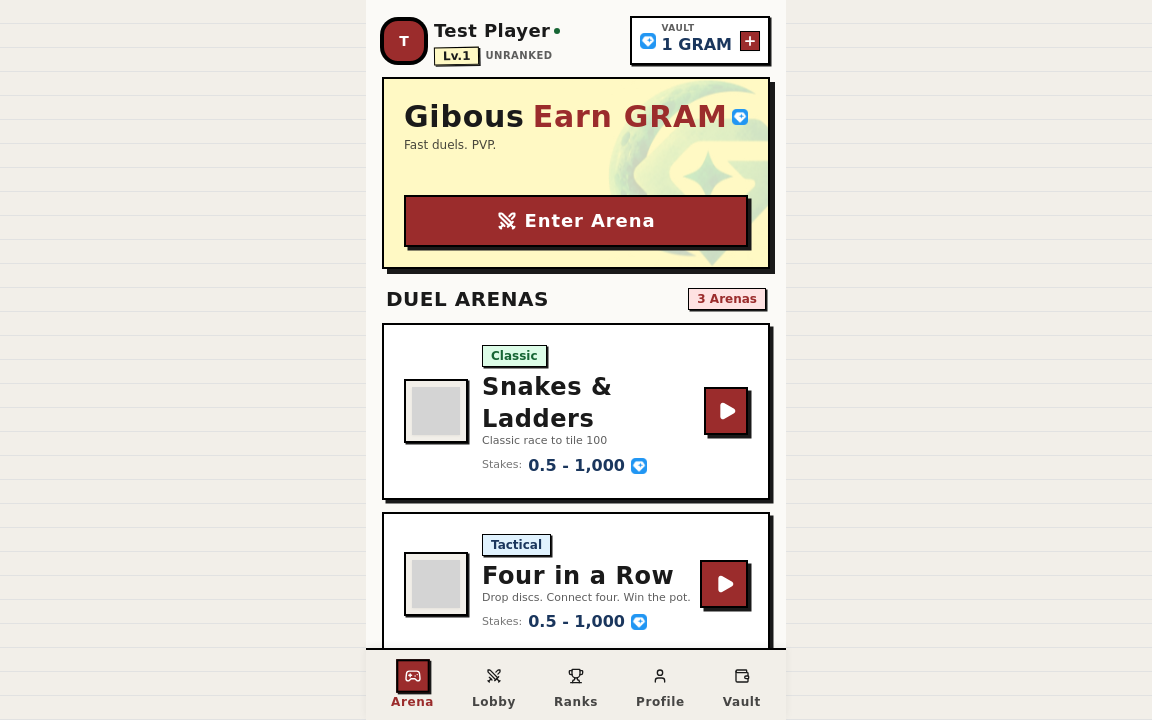
Test: HomeScreen bank feature loading › keeps TON Connect out of the initial home screen and loads it when Vault opens
The image size is (1152, 720).
Expected: the text "Duel Arenas" is shown, [386,285,549,313]
Click the button "Vault" at (742, 685), box [715,656,769,714]
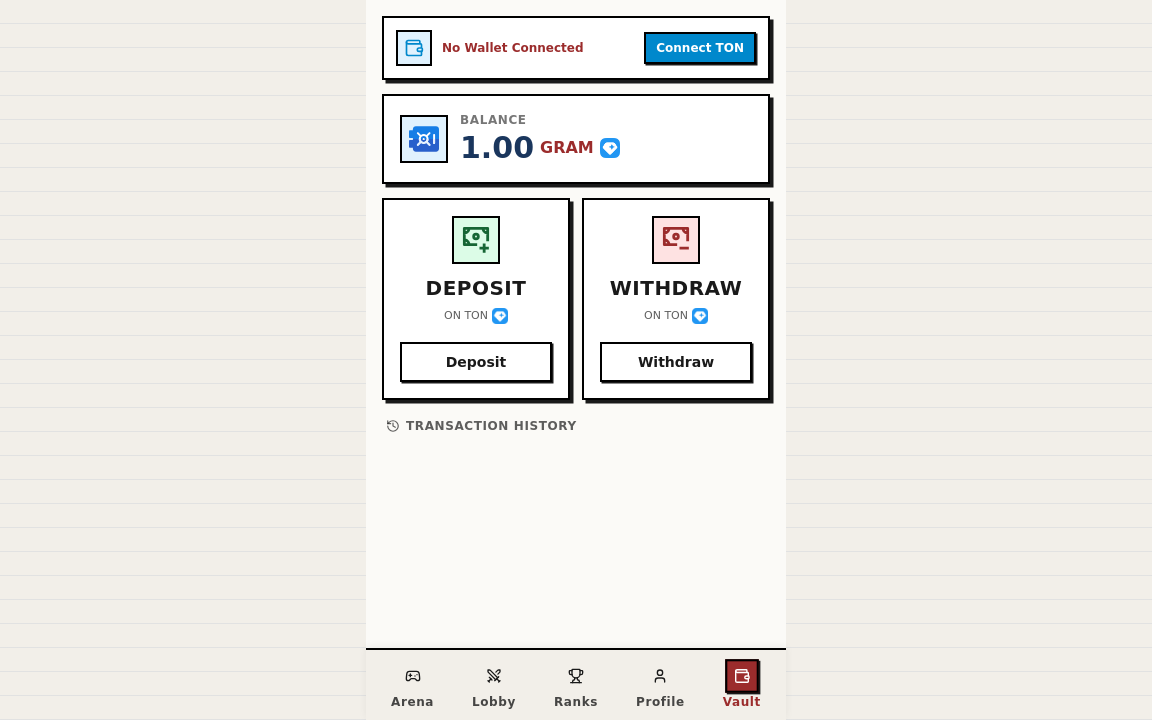
Expected: the text "Connect TON" is shown, [656,40,744,56]
